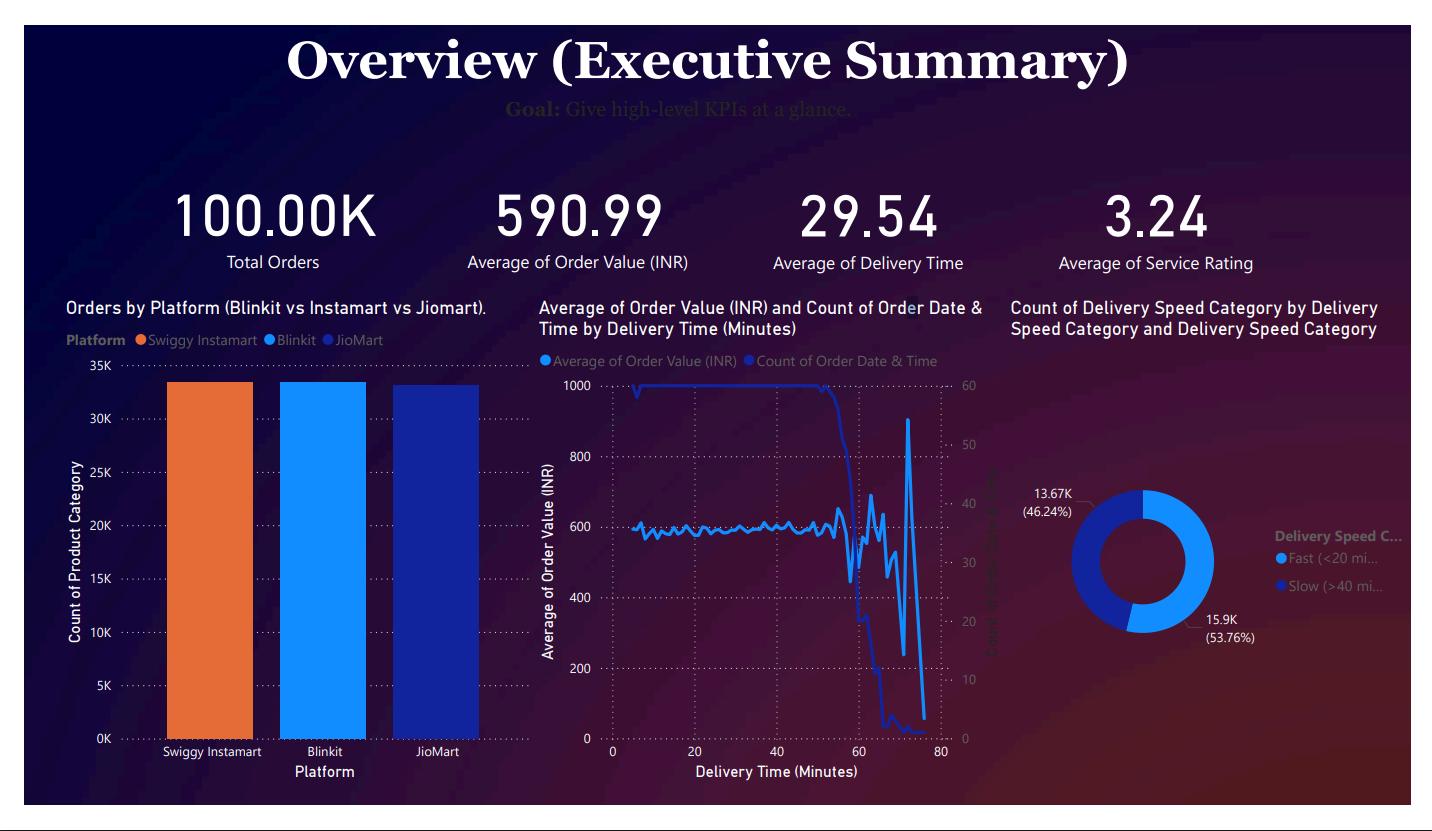

This screenshot's page, from the dashboard's own definition file:
{"tool":"powerbi","page":{"name":"Page 1","canvas":[1280,720],"ordinal":0},"visuals":[{"type":"textbox","box":[229.2,0,804.4,73.7],"z":0},{"type":"card","fields":{"Values":["CountNonNull(Ecommerce_Delivery_Analytics_New.Order ID)"]},"box":[106.7,124.3,245.6,111.1],"z":1000},{"type":"card","fields":{"Values":["Avg(Ecommerce_Delivery_Analytics_New.Order Value (INR))"]},"box":[388,124.3,245.6,111.1],"z":2000},{"type":"card","fields":{"Values":["Avg(Ecommerce_Delivery_Analytics_New.Delivery Time (Minutes))"]},"box":[656.7,124,245.4,111.5],"z":3000},{"type":"card","fields":{"Values":["Avg(Ecommerce_Delivery_Analytics_New.Service Rating)"]},"box":[922.8,124,245.4,111.5],"z":4000},{"type":"columnChart","title":"Orders by Platform (Blinkit vs Instamart vs Jiomart).","fields":{"Category":["Ecommerce_Delivery_Analytics_New.Platform"],"Y":["CountNonNull(Ecommerce_Delivery_Analytics_New.Product Category)"],"Series":["Ecommerce_Delivery_Analytics_New.Platform"]},"box":[32.7,251.3,437.2,450.6],"z":5000},{"type":"lineChart","fields":{"Y":["Avg(Ecommerce_Delivery_Analytics_New.Order Value (INR))"],"Category":["Ecommerce_Delivery_Analytics_New.Delivery Time (Minutes)"],"Y2":["Count(Ecommerce_Delivery_Analytics_New.Order Date & Time)"]},"box":[469.9,251.3,435.7,450.6],"z":6000},{"type":"donutChart","fields":{"Y":["CountNonNull(Ecommerce_Delivery_Analytics_New.Delivery Speed Category)"],"Category":["Ecommerce_Delivery_Analytics_New.Delivery Speed Category"],"Series":["Ecommerce_Delivery_Analytics_New.Delivery Speed Category"]},"box":[905.6,251.3,374.7,450.6],"z":7000},{"type":"textbox","box":[371.7,62.5,463.9,50.6],"z":8000}]}

Visuals, with their boxes on the page's 1280x720 design canvas (x1, y1, x2, y2). These are canvas units, not pixel positions in the 1432x831 screenshot, which may show the page scaled, cropped or inside an application window:
textbox: [229, 0, 1034, 74]
card - CountNonNull(Ecommerce_Delivery_Analytics_New.Order ID): [107, 124, 352, 235]
card - Avg(Ecommerce_Delivery_Analytics_New.Order Value (INR)): [388, 124, 634, 235]
card - Avg(Ecommerce_Delivery_Analytics_New.Delivery Time (Minutes)): [657, 124, 902, 236]
card - Avg(Ecommerce_Delivery_Analytics_New.Service Rating): [923, 124, 1168, 236]
"Orders by Platform (Blinkit vs Instamart vs Jiomart)." columnChart: [33, 251, 470, 702]
lineChart - Avg(Ecommerce_Delivery_Analytics_New.Order Value (INR)) x Ecommerce_Delivery_Analytics_New.Delivery Time (Minutes): [470, 251, 906, 702]
donutChart - CountNonNull(Ecommerce_Delivery_Analytics_New.Delivery Speed Category) x Ecommerce_Delivery_Analytics_New.Delivery Speed Category: [906, 251, 1280, 702]
textbox: [372, 62, 836, 113]
